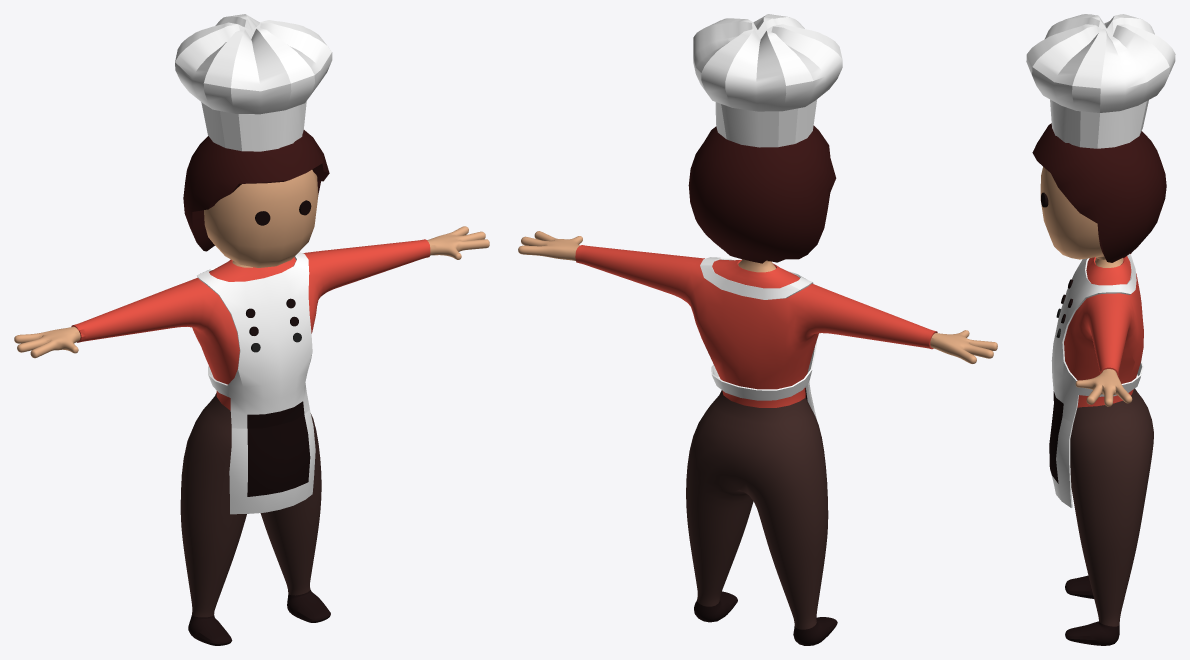
Rendered from stickman.fbx.
3 views of the same model, side by side, from view 1: azimuth 30°, elevation 25°; view 2: azimuth 150°, elevation 25°; view 3: azimuth 270°, elevation 25° (orthographic). The views are drawn at different scales.
Visible parts, largest first — view 1: stickman; view 2: stickman; view 3: stickman.
Part boxes in pixels (x1=…): stickman: x1=14, y1=14, x2=489, y2=645; stickman: x1=518, y1=14, x2=997, y2=645; stickman: x1=1026, y1=14, x2=1175, y2=645.
Size of the model in its own units: 1051 by 1293 by 294.
